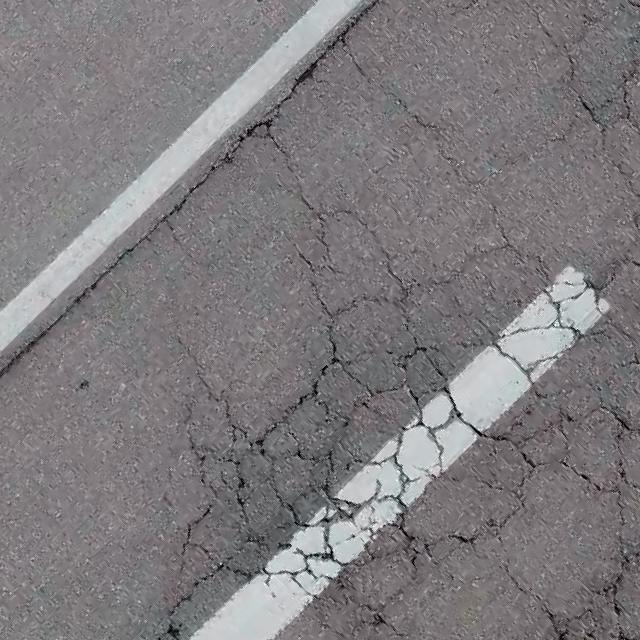GRIETA: (0, 0, 384, 379)
PIEL DE COCODRILO: (155, 0, 639, 639)
